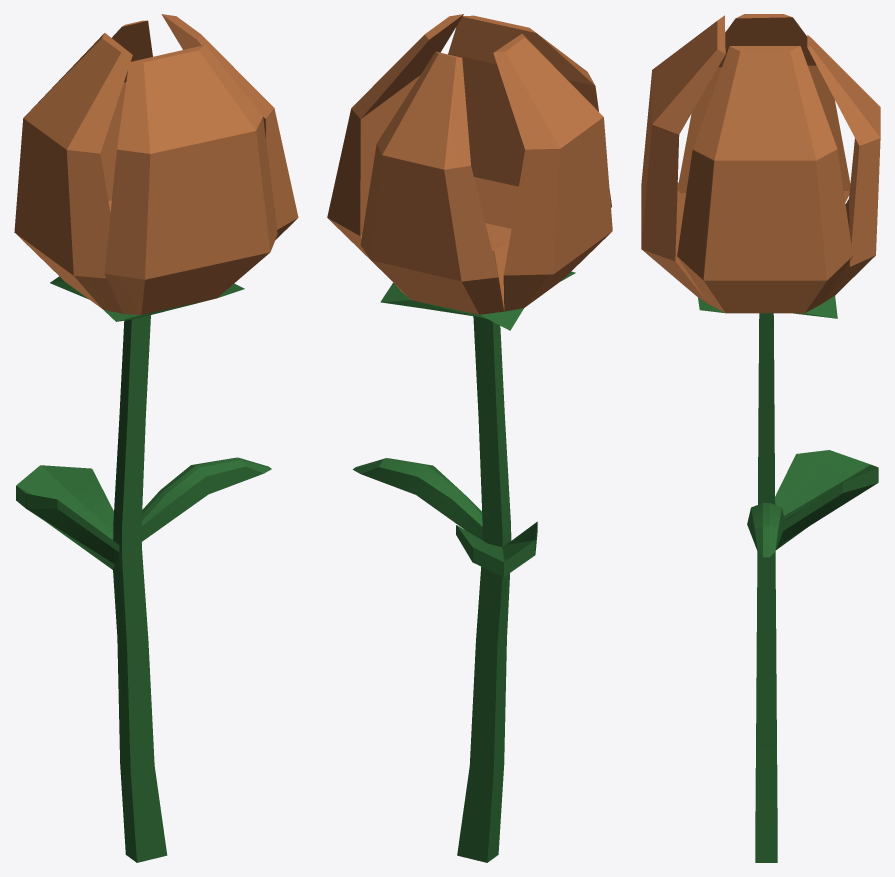
Rendered from orange flower.fbx.
3 renders of one model, left to right at view 1: azimuth 30°, elevation 25°; view 2: azimuth 150°, elevation 25°; view 3: azimuth 270°, elevation 25°, orthographic.
Parts seen in each view (by area): view 1: flower1; view 2: flower1; view 3: flower1.
Part boxes in pixels (bbox=[...]): flower1: bbox=[14, 14, 298, 862]; flower1: bbox=[327, 14, 612, 862]; flower1: bbox=[641, 14, 880, 862].
Size of the model in its own units: 52.02 by 179 by 47.06.
1 material, 1 textured.
